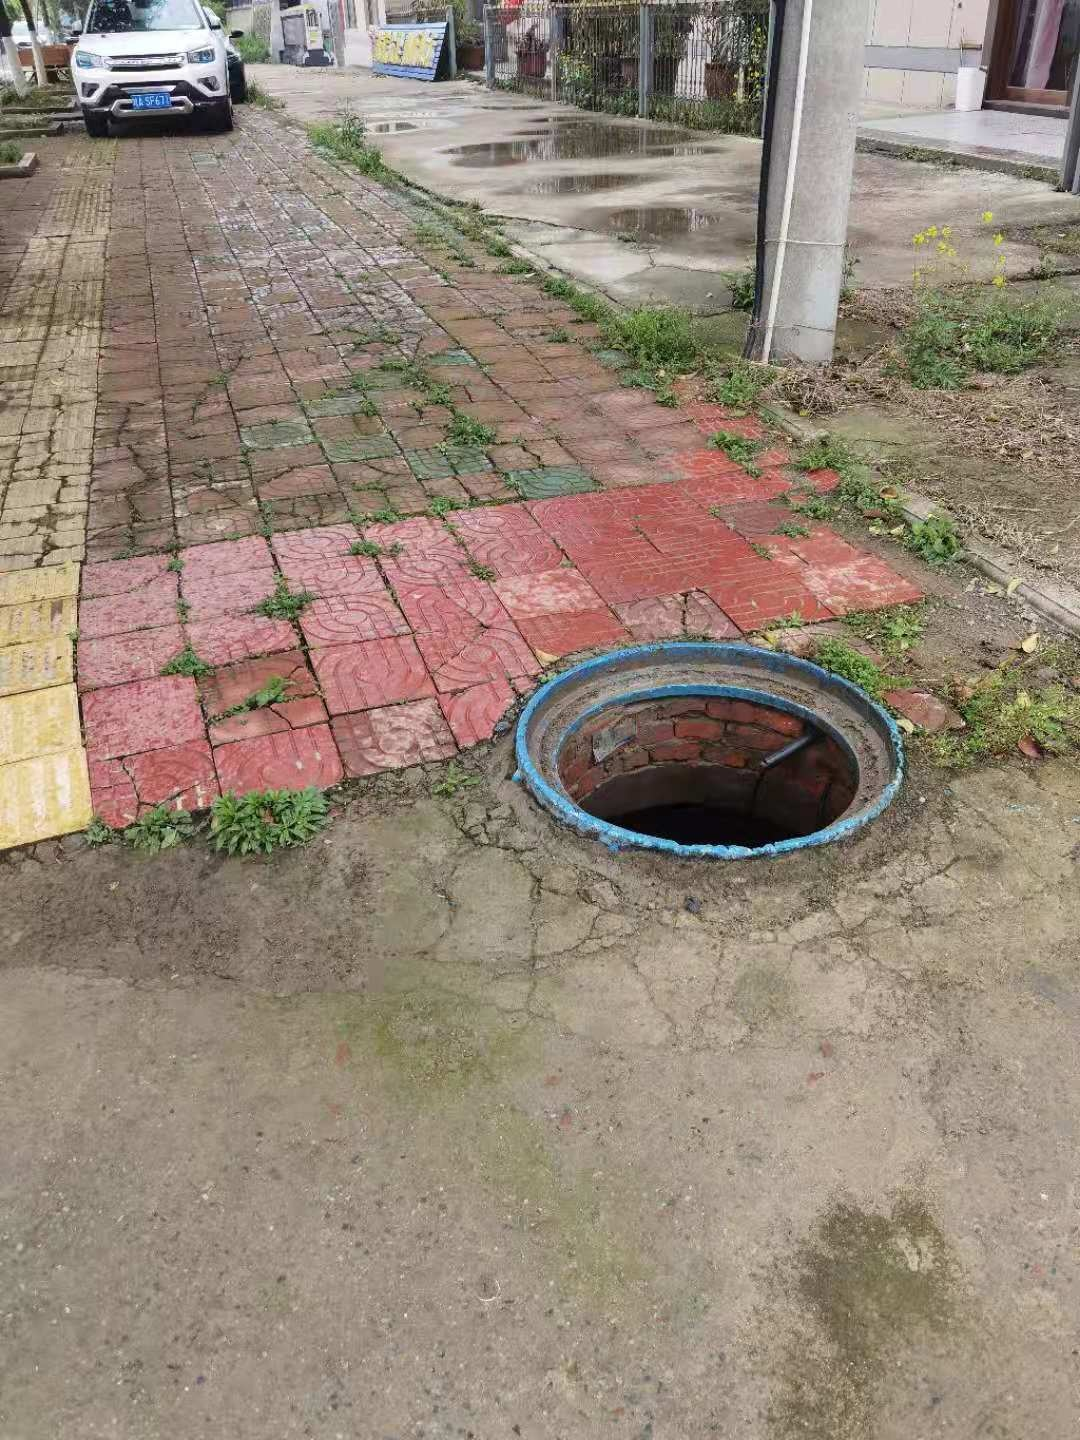lose: (518, 642, 908, 854)
